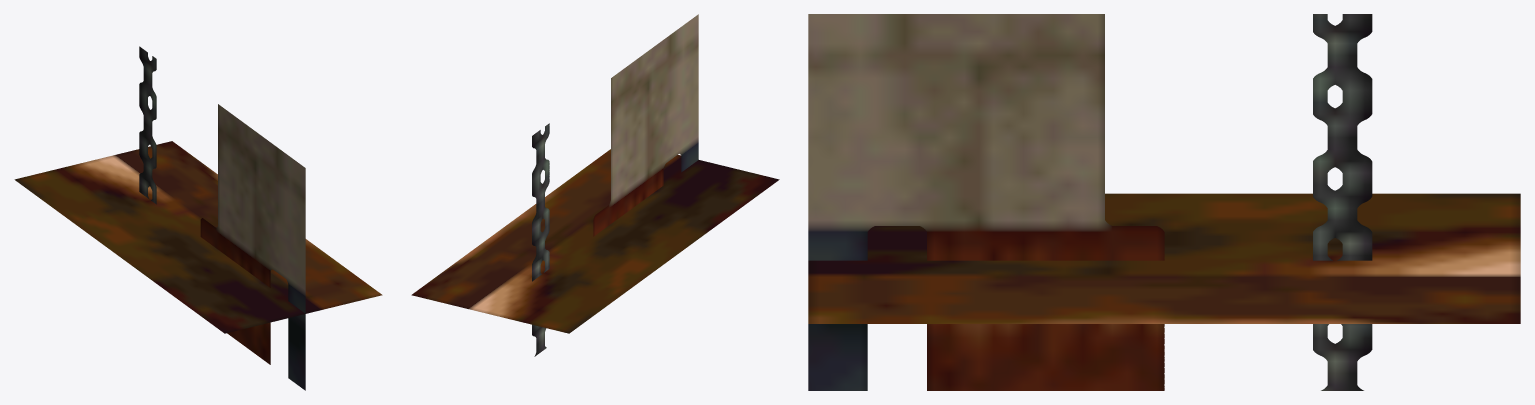
3 views of the same model, side by side, from view 1: azimuth 30°, elevation 25°; view 2: azimuth 150°, elevation 25°; view 3: azimuth 270°, elevation 25° (orthographic). The views are drawn at different scales.
Visible parts, largest first — view 1: T1L9M004_17; view 2: T1L9M004_17; view 3: T1L9M004_17.
Part boxes in pixels (x1,y1,x2,y2): T1L9M004_17: [14, 46, 382, 390]; T1L9M004_17: [411, 14, 779, 356]; T1L9M004_17: [808, 14, 1520, 390].
Size of the model in its own units: 0.8154 by 1.1 by 1.88.
